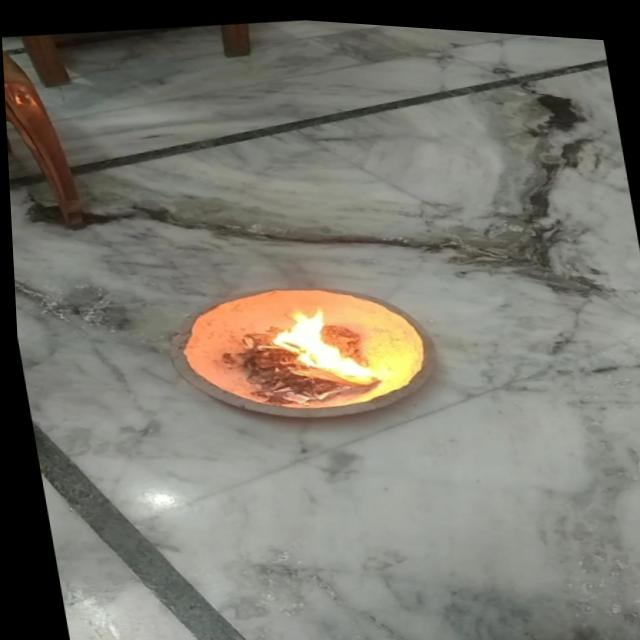fire: (243, 296, 365, 395)
